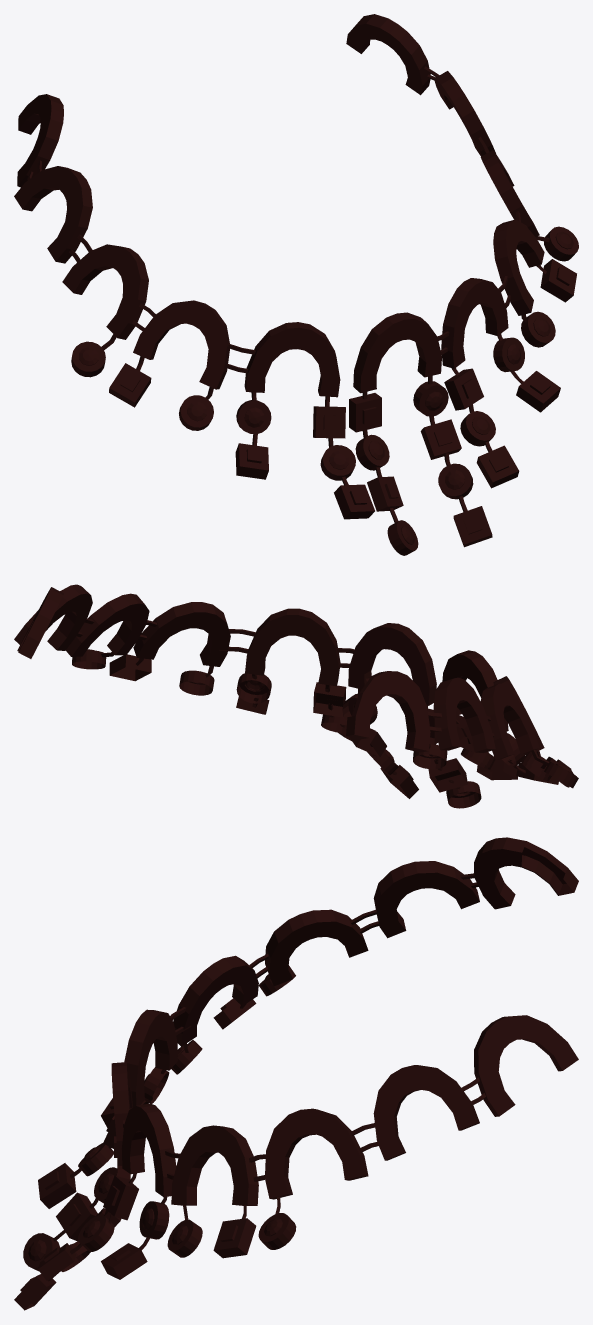
Rendered from necklace.glb.
The picture shows the model from 3 angles, top to bottom: view 1: azimuth 30°, elevation 25°; view 2: azimuth 150°, elevation 25°; view 3: azimuth 270°, elevation 25°; orthographic projection. The views are drawn at different scales.
Parts seen in each view (by area): view 1: necklace-earrings_OBJ.004; view 2: necklace-earrings_OBJ.004; view 3: necklace-earrings_OBJ.004.
Boxes of the visible parts, x1,y1,x2,y2 form: necklace-earrings_OBJ.004: (14, 14, 578, 555); necklace-earrings_OBJ.004: (14, 584, 578, 808); necklace-earrings_OBJ.004: (14, 837, 578, 1310).
Bounding box in the file's own units: 5.71 × 3.63 × 5.1.
